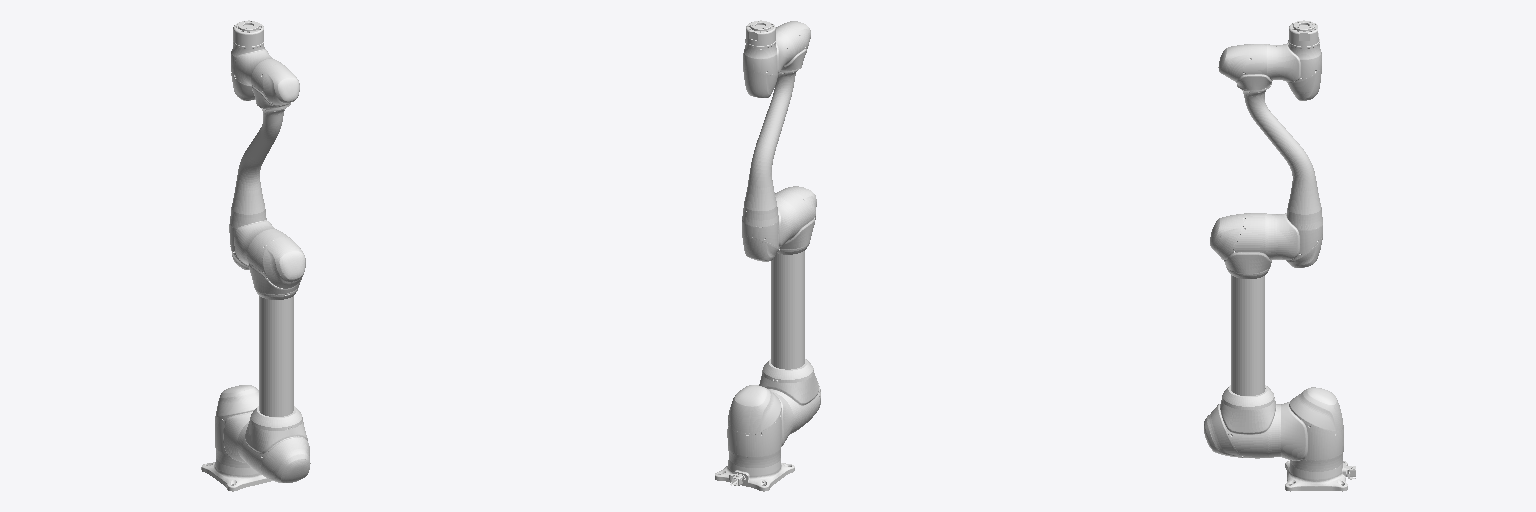
The robot description file, URDF, robot "Assembly_URDF":
<?xml version="1.0" ?>
<robot name="Assembly_URDF">

<material name="silver">
  <color rgba="0.941 0.941 0.941 1.0"/>
</material>

<link name="world"/>

<joint name="fixed" type="fixed">
  <parent link="world"/>
  <child link="base_link"/>
</joint>

<link name="base_link">
  <inertial>
    <origin xyz="2.1702844245028507e-05 0.0006717105324233048 -0.02950676147510197" rpy="0 0 0"/>
    <mass value="9.406738453783882"/>
    <inertia ixx="0.020917" iyy="0.020358" izz="0.036608" ixy="-4.2e-05" iyz="-5e-06" ixz="1e-06"/>
  </inertial>
  <visual>
    <origin xyz="0 0 0" rpy="0 0 0"/>
    <geometry>
     <mesh filename="base_link.stl" scale="0.001 0.001 0.001"/>
    </geometry>
    <material name="silver"/>
  </visual>
  <collision>
    <origin xyz="0 0 0" rpy="0 0 0"/>
    <geometry>
      <mesh filename="base_link.obj" scale="0.001 0.001 0.001"/>
    </geometry>
  </collision>
</link>

<link name="1st_link_1_1">
  <inertial>
    <origin xyz="7.914174786087175e-07 -0.013856350130077714 0.09863321416942206" rpy="0 0 0"/>
    <mass value="35.787293859148"/>
    <inertia ixx="0.185086" iyy="0.166742" izz="0.132645" ixy="-0.0" iyz="0.001078" ixz="-2e-06"/>
  </inertial>
  <visual>
    <origin xyz="-3e-06 5e-06 -0.0" rpy="0 0 0"/>
    <geometry>
      <mesh filename="1st_link_1_1.stl" scale="0.001 0.001 0.001"/>
    </geometry>
    <material name="silver"/>
  </visual>
  <collision>
    <origin xyz="-3e-06 5e-06 -0.0" rpy="0 0 0"/>
    <geometry>
     <mesh filename="1st_link_1_1.obj" scale="0.001 0.001 0.001"/>
    </geometry>
  </collision>
</link>

<link name="2nd_link_1_1">
  <inertial>
    <origin xyz="3.24160896206642e-07 -0.0975770071813726 0.2677331311615686" rpy="0 0 0"/>
    <mass value="86.25154543012832"/>
    <inertia ixx="5.77365" iyy="5.697374" izz="0.283538" ixy="-1e-06" iyz="-0.006865" ixz="-7e-06"/>
  </inertial>
  <visual>
    <origin xyz="-3e-06 0.101805 -0.0957" rpy="0 0 0"/>
    <geometry>
      <mesh filename="2nd_link_1_1.stl" scale="0.001 0.001 0.001"/>
    </geometry>
    <material name="silver"/>
  </visual>
  <collision>
    <origin xyz="-3e-06 0.101805 -0.0957" rpy="0 0 0"/>
    <geometry>
     <mesh filename="2nd_link_1_1.obj" scale="0.001 0.001 0.001"/>
    </geometry>
  </collision>
</link>

<link name="3rd_link_1_1">
  <inertial>
    <origin xyz="8.014684053673946e-06 0.04756647359519345 0.12141003496712388" rpy="0 0 0"/>
    <mass value="27.55365381580614"/>
    <inertia ixx="0.778195" iyy="0.721972" izz="0.090562" ixy="2e-06" iyz="0.150296" ixz="-2.1e-05"/>
  </inertial>
  <visual>
    <origin xyz="-3e-06 0.115506 -0.7157" rpy="0 0 0"/>
    <geometry>
      <mesh filename="3rd_link_1_1.stl" scale="0.001 0.001 0.001"/>
    </geometry>
    <material name="silver"/>
  </visual>
  <collision>
    <origin xyz="-3e-06 0.115506 -0.7157" rpy="0 0 0"/>
    <geometry>
     <mesh filename="3rd_link_1_1.obj" scale="0.001 0.001 0.001"/>
    </geometry>
  </collision>
</link>

<link name="4th_link_1_1">
  <inertial>
    <origin xyz="9.432841856242524e-06 -0.007816422725311606 0.057910212202059164" rpy="0 0 0"/>
    <mass value="11.873438002658022"/>
    <inertia ixx="0.031121" iyy="0.019191" izz="0.029491" ixy="0.0" iyz="0.000236" ixz="-0.0"/>
  </inertial>
  <visual>
    <origin xyz="-1.8e-05 0.180809 -1.208703" rpy="0 0 0"/>
    <geometry>
      <mesh filename="4th_link_1_1.stl" scale="0.001 0.001 0.001"/>
    </geometry>
    <material name="silver"/>
  </visual>
  <collision>
    <origin xyz="-1.8e-05 0.180809 -1.208703" rpy="0 0 0"/>
    <geometry>
     <mesh filename="4th_link_1_1.obj" scale="0.001 0.001 0.001"/>
    </geometry>
  </collision>
</link>

<link name="5th_link_1_1">
  <inertial>
    <origin xyz="4.774344249147477e-06 0.06695197581683174 -0.014325401148973071" rpy="0 0 0"/>
    <mass value="12.026780543570949"/>
    <inertia ixx="0.034326" iyy="0.029352" izz="0.02077" ixy="-1e-06" iyz="0.002332" ixz="3e-06"/>
  </inertial>
  <visual>
    <origin xyz="-0.000128 0.114814 -1.273797" rpy="0 0 0"/>
    <geometry>
      <mesh filename="5th_link_1_1.stl" scale="0.001 0.001 0.001"/>
    </geometry>
    <material name="silver"/>
  </visual>
  <collision>
    <origin xyz="-0.000128 0.114814 -1.273797" rpy="0 0 0"/>
    <geometry>
     <mesh filename="5th_link_1_1.obj" scale="0.001 0.001 0.001"/>
    </geometry>
  </collision>
</link>

<link name="6th_link_1_1">
  <inertial>
    <origin xyz="-0.00018822684267593483 -0.0002008624257111083 0.027294190090226822" rpy="0 0 0"/>
    <mass value="2.664111017798288"/>
    <inertia ixx="0.001974" iyy="0.001975" izz="0.002574" ixy="0.0" iyz="7e-06" ixz="6e-06"/>
  </inertial>
  <visual>
    <origin xyz="-0.000128 0.035808 -1.334258" rpy="0 0 0"/>
    <geometry>
      <mesh filename="6th_link_1_1.stl" scale="0.001 0.001 0.001"/>
    </geometry>
    <material name="silver"/>
  </visual>
  <collision>
    <origin xyz="-0.000128 0.035808 -1.334258" rpy="0 0 0"/>
    <geometry>
     <mesh filename="6th_link_1_1.obj" scale="0.001 0.001 0.001"/>
    </geometry>
  </collision>
</link>

<joint name="Revolute1" type="revolute">
  <origin xyz="3e-06 -5e-06 0.0" rpy="0 0 0"/>
  <parent link="base_link"/>
  <child link="1st_link_1_1"/>
  <axis xyz="0 0 1"/>
</joint>

<joint name="Revolute2" type="revolute">
  <origin xyz="0.0 -0.1018 0.0957" rpy="0 0 0"/>
  <parent link="1st_link_1_1"/>
  <child link="2nd_link_1_1"/>
  <axis xyz="0 -1 0"/>
</joint>

<joint name="Revolute3" type="revolute">
  <origin xyz="0.0 -0.013701 0.62" rpy="0 0 0"/>
  <parent link="2nd_link_1_1"/>
  <child link="3rd_link_1_1"/>
  <axis xyz="0 1 0"/>
</joint>

<joint name="Revolute4" type="revolute">
  <origin xyz="1.5e-05 -0.065303 0.493003" rpy="0 0 0"/>
  <parent link="3rd_link_1_1"/>
  <child link="4th_link_1_1"/>
  <axis xyz="0 0 1"/>
</joint>

<joint name="Revolute5" type="revolute">
  <origin xyz="0.00011 0.065995 0.065094" rpy="0 0 0"/>
  <parent link="4th_link_1_1"/>
  <child link="5th_link_1_1"/>
  <axis xyz="0 1 0"/>
</joint>

<joint name="Revolute6" type="revolute">
  <origin xyz="0.0 0.079006 0.060461" rpy="0 0 0"/>
  <parent link="5th_link_1_1"/>
  <child link="6th_link_1_1"/>
  <axis xyz="0 0 1"/>
</joint>

</robot>

--- What the picture shows (computed from the rendered views, not written in the file) ---
3 views of the same robot in one strip: view 1: azimuth 30°, elevation 25°; view 2: azimuth 150°, elevation 25°; view 3: azimuth 270°, elevation 25° (orthographic).
Model Assembly_URDF with 8 links and 7 joints (6 revolute, 1 fixed), rooted at world, posed all joints at 0.
Links seen in each view (by area): view 1: 2nd_link_1_1, 3rd_link_1_1, 1st_link_1_1, 4th_link_1_1, base_link, 5th_link_1_1, 6th_link_1_1; view 2: 2nd_link_1_1, 3rd_link_1_1, 1st_link_1_1, 5th_link_1_1, base_link, 4th_link_1_1, 6th_link_1_1; view 3: 2nd_link_1_1, 3rd_link_1_1, 1st_link_1_1, 4th_link_1_1, 5th_link_1_1, base_link, 6th_link_1_1.
Link boxes in pixels (x1=…): 2nd_link_1_1: x1=237, y1=226, x2=310, y2=482; 3rd_link_1_1: x1=229, y1=103, x2=290, y2=269; 1st_link_1_1: x1=215, y1=385, x2=258, y2=467; 4th_link_1_1: x1=247, y1=56, x2=299, y2=108; base_link: x1=201, y1=459, x2=271, y2=491; 5th_link_1_1: x1=231, y1=45, x2=271, y2=100; 6th_link_1_1: x1=233, y1=20, x2=263, y2=49; 2nd_link_1_1: x1=759, y1=186, x2=820, y2=433; 3rd_link_1_1: x1=742, y1=66, x2=801, y2=261; 1st_link_1_1: x1=727, y1=385, x2=793, y2=467; 5th_link_1_1: x1=743, y1=37, x2=788, y2=97; base_link: x1=715, y1=458, x2=794, y2=491; 4th_link_1_1: x1=776, y1=21, x2=810, y2=70; 6th_link_1_1: x1=745, y1=20, x2=775, y2=48; 2nd_link_1_1: x1=1204, y1=213, x2=1280, y2=458; 3rd_link_1_1: x1=1237, y1=84, x2=1322, y2=267; 1st_link_1_1: x1=1281, y1=387, x2=1343, y2=471; 4th_link_1_1: x1=1218, y1=44, x2=1276, y2=89; 5th_link_1_1: x1=1277, y1=43, x2=1321, y2=100; base_link: x1=1285, y1=461, x2=1355, y2=491; 6th_link_1_1: x1=1288, y1=20, x2=1319, y2=49.
Size in the robot's own frame: 0.1824 by 0.4429 by 1.45 metres.
Meshes: 7 distinct files referenced, 7 mesh visuals loaded (7 binary STL).